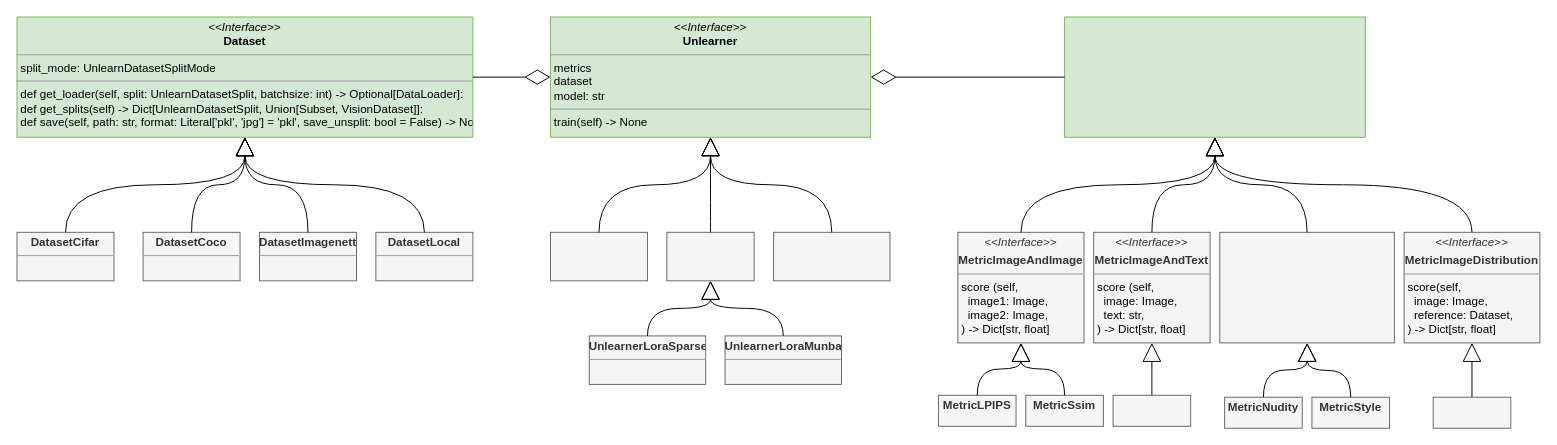
This 1557x445 diagram has some shape labels left out. Each missing label, with the centre of its shape:
"<<Interface>> Metric score(self) -> Dict[str, bool | float | int]" belongs at (1214,76).
"<<Interface>> MetricImage score( self, image: Image, ) -> Dict[str, float]" belongs at (1306,287).
"MetricClip" belongs at (1151,410).
"MetricFID" belongs at (1471,412).
"UnlearnerDistillation" belongs at (831,256).
"UnlearnerLora" belongs at (710,256).
"UnlearnerSalun" belongs at (598,256).
